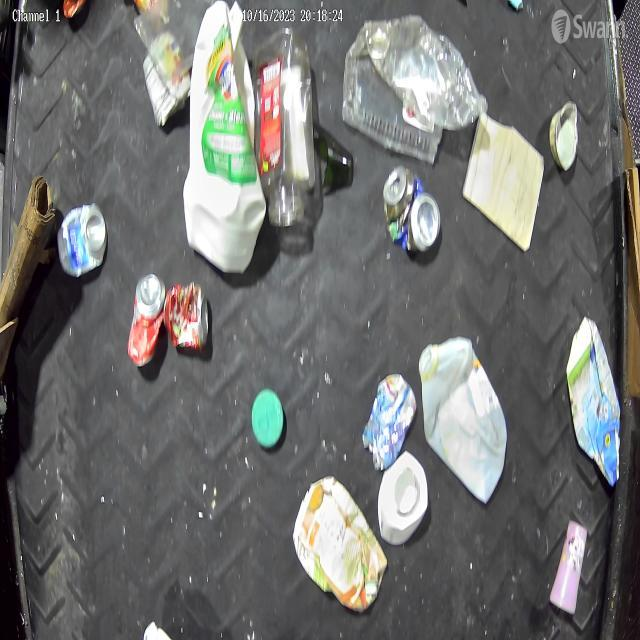can: (384, 160, 442, 268), (362, 367, 416, 478), (55, 203, 107, 284), (128, 270, 168, 373), (162, 266, 208, 354), (542, 96, 574, 178)
milk_jug: (184, 0, 267, 275), (420, 331, 512, 507)
